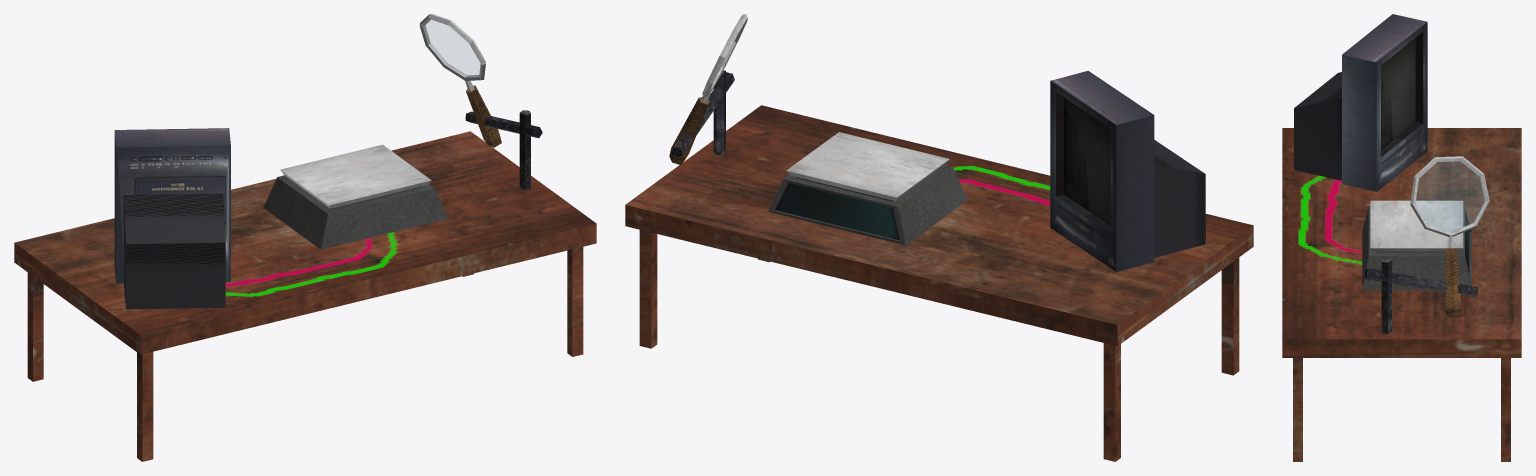
File: MesaAnaliseDef.glb
The picture shows the model from 3 angles, left to right: view 1: azimuth 30°, elevation 25°; view 2: azimuth 150°, elevation 25°; view 3: azimuth 270°, elevation 25°; orthographic projection. The views are drawn at different scales.
Visible parts, largest first — view 1: Cube, Cube.002, Cube.001, Torus; view 2: Cube, Cube.002, Cube.001, Torus; view 3: Cube, Cube.002, Cube.001, Torus.
Boxes of the visible parts, bbox=[...] form: Cube: bbox=[14, 110, 596, 461]; Cube.002: bbox=[114, 128, 230, 309]; Cube.001: bbox=[263, 144, 448, 249]; Torus: bbox=[419, 14, 501, 147]; Cube: bbox=[625, 70, 1253, 461]; Cube.002: bbox=[1050, 71, 1205, 271]; Cube.001: bbox=[768, 132, 967, 245]; Torus: bbox=[669, 14, 747, 164]; Cube: bbox=[1282, 128, 1521, 461]; Cube.002: bbox=[1294, 14, 1427, 191]; Cube.001: bbox=[1362, 200, 1471, 290]; Torus: bbox=[1410, 156, 1489, 317].
Size of the model in its own units: 5.89 by 3.61 by 2.82.
Materials: 5 (4 with a texture image).
